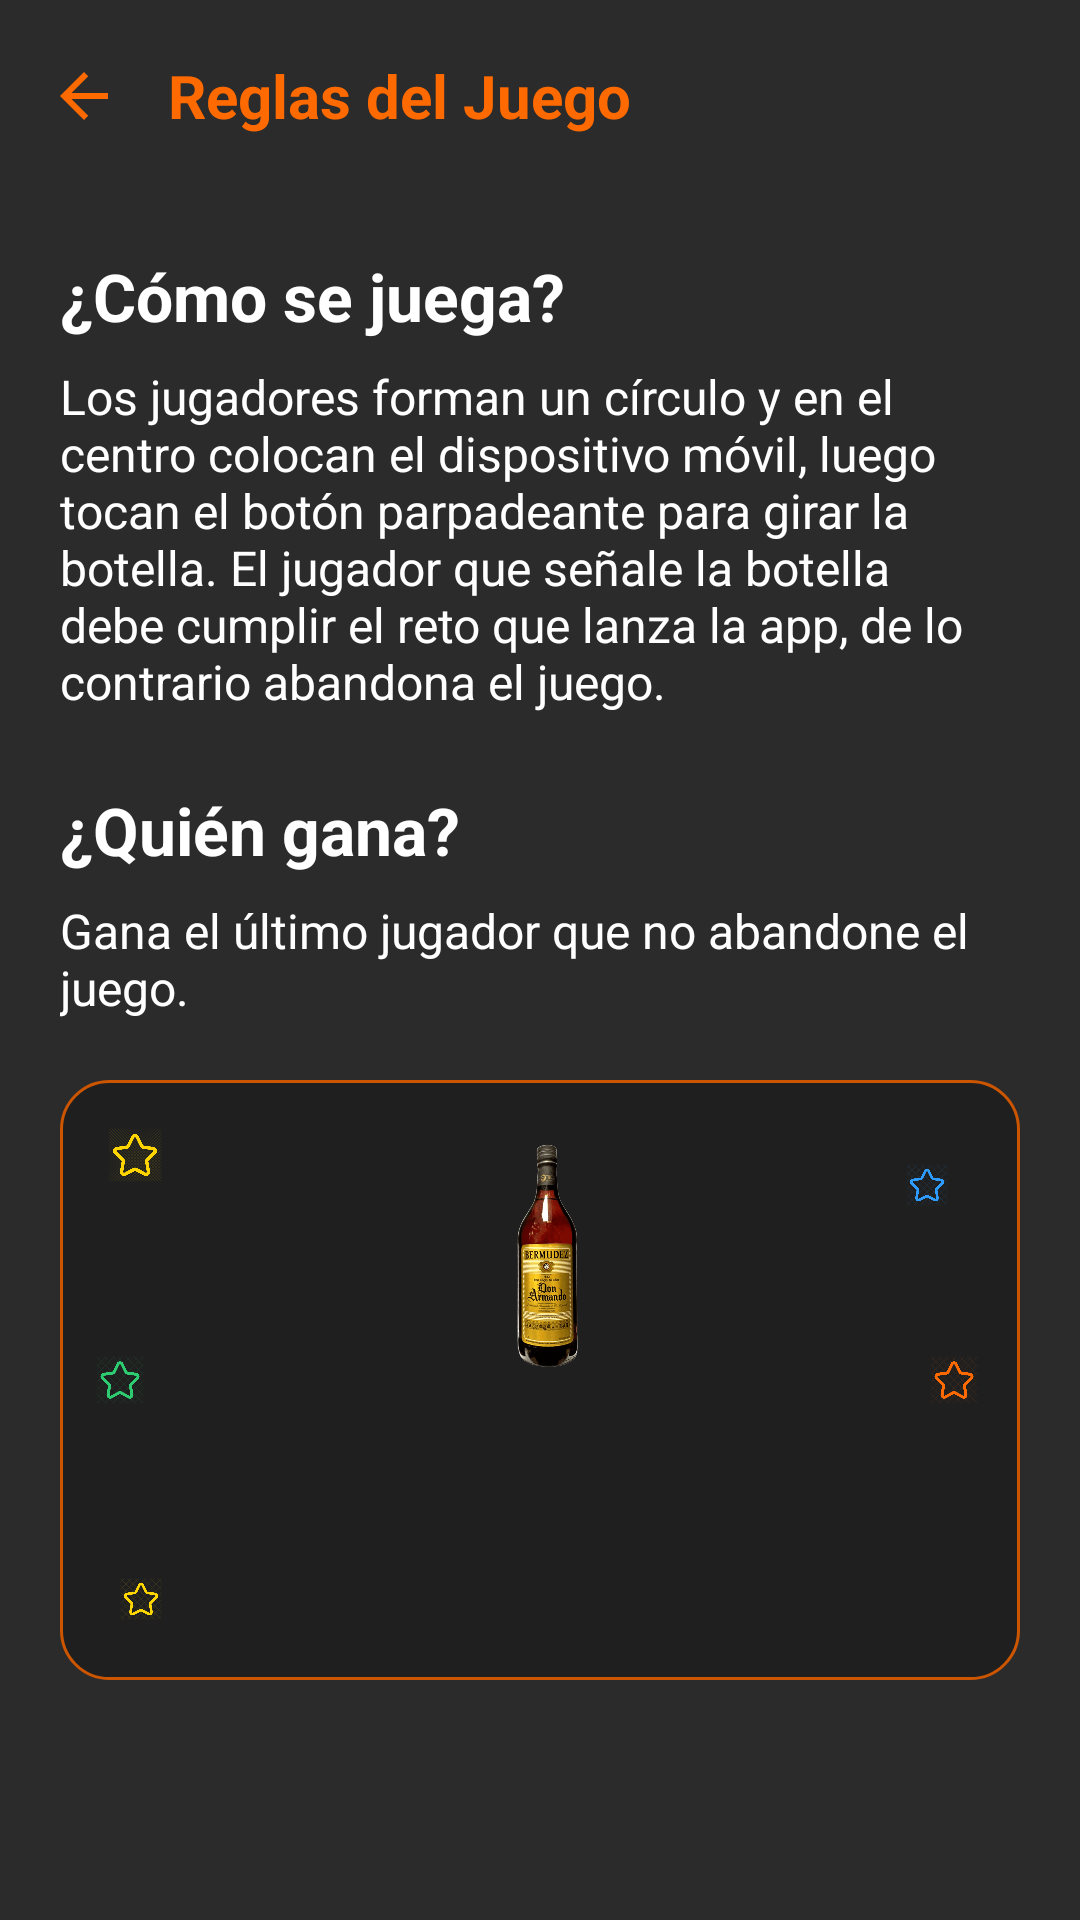

Named icons in this screenshot (1080*1920) and their centers, (x=x, y=y):
estrella: (x=135, y=1154), (x=927, y=1185), (x=954, y=1380), (x=120, y=1380), (x=141, y=1599)
Volver: (x=84, y=96)
